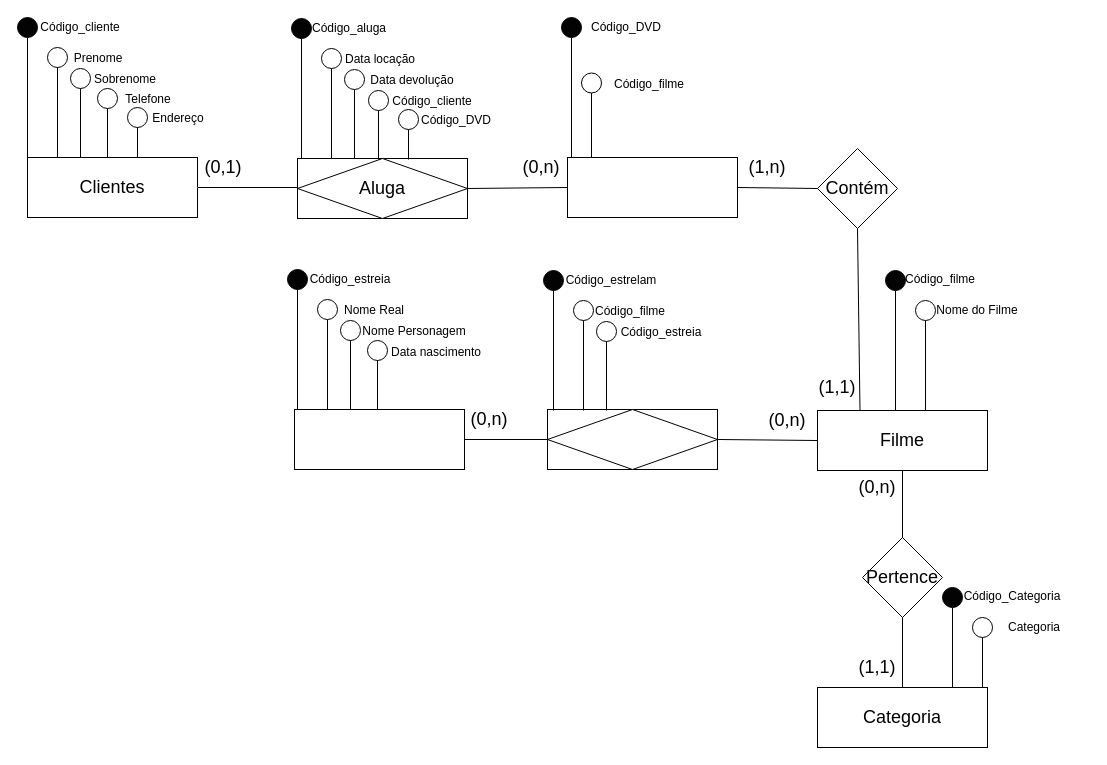
Some shapes in this 1107 by 765 pixel diagram are drawn without their labels. The centre of each missing label's shape, as x and y in pixels:
Atores: the point at 379,439
DVD: the point at 652,187
Estrela: the point at 632,439
